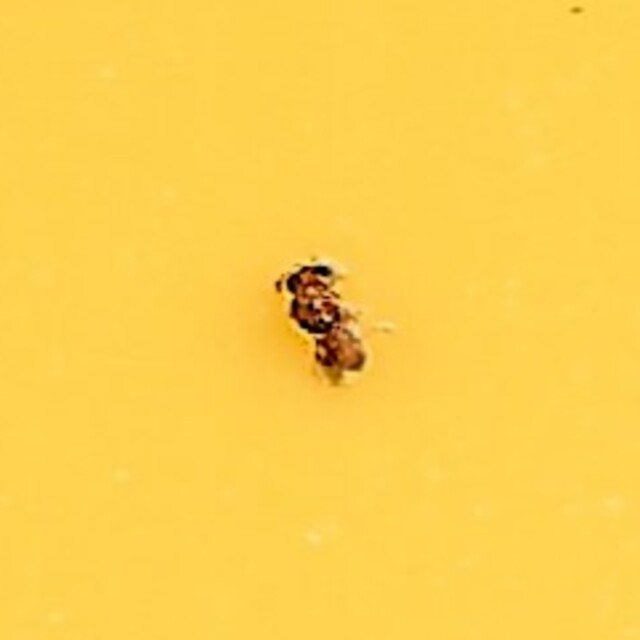Hymenoptera: (266, 249, 374, 391)
